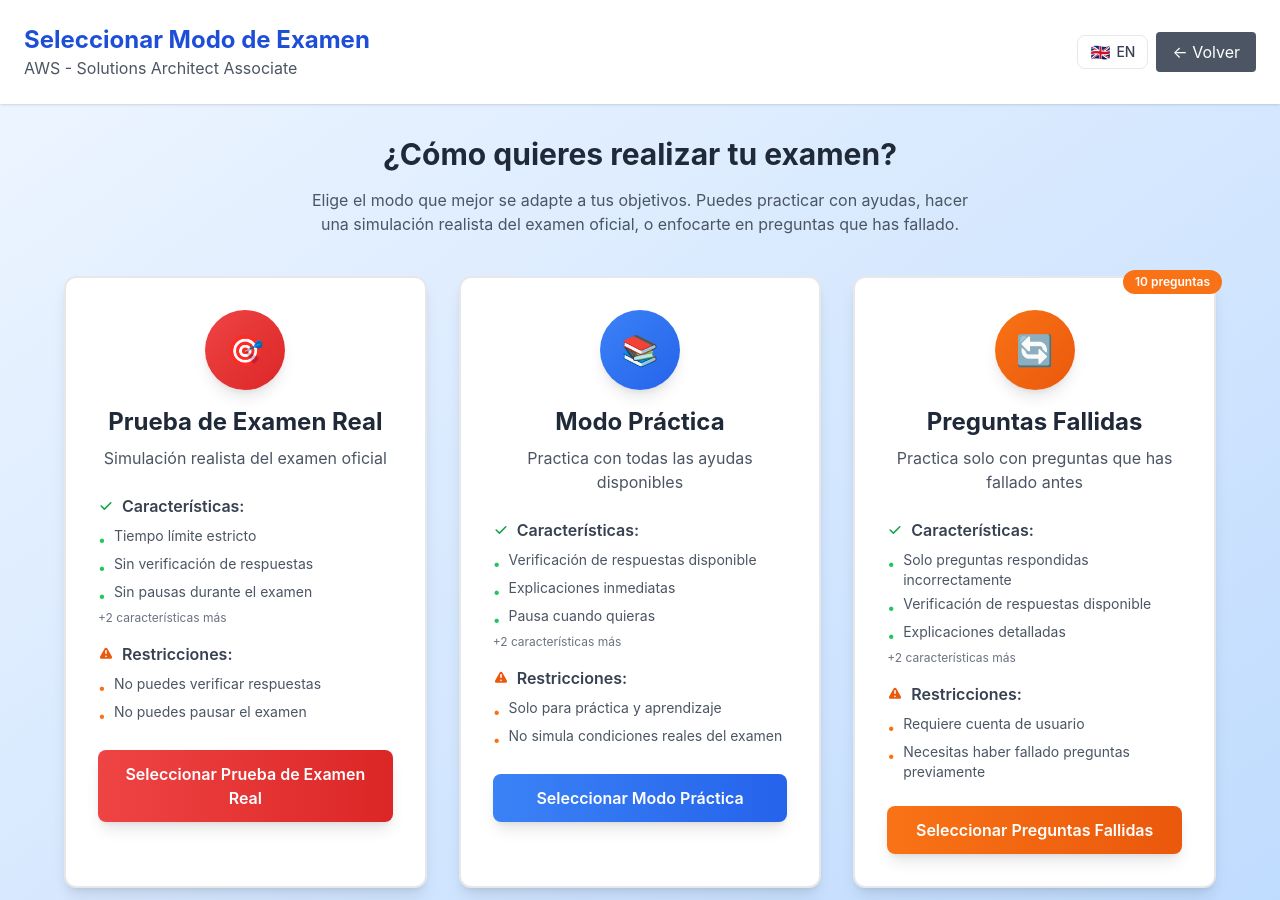
Test: ExamModeSelector › Selección de modo › selecciona modo realista al hacer clic
Step 1. Click the text "Prueba de Examen Real" → (245, 582), box [64,276,427,888]
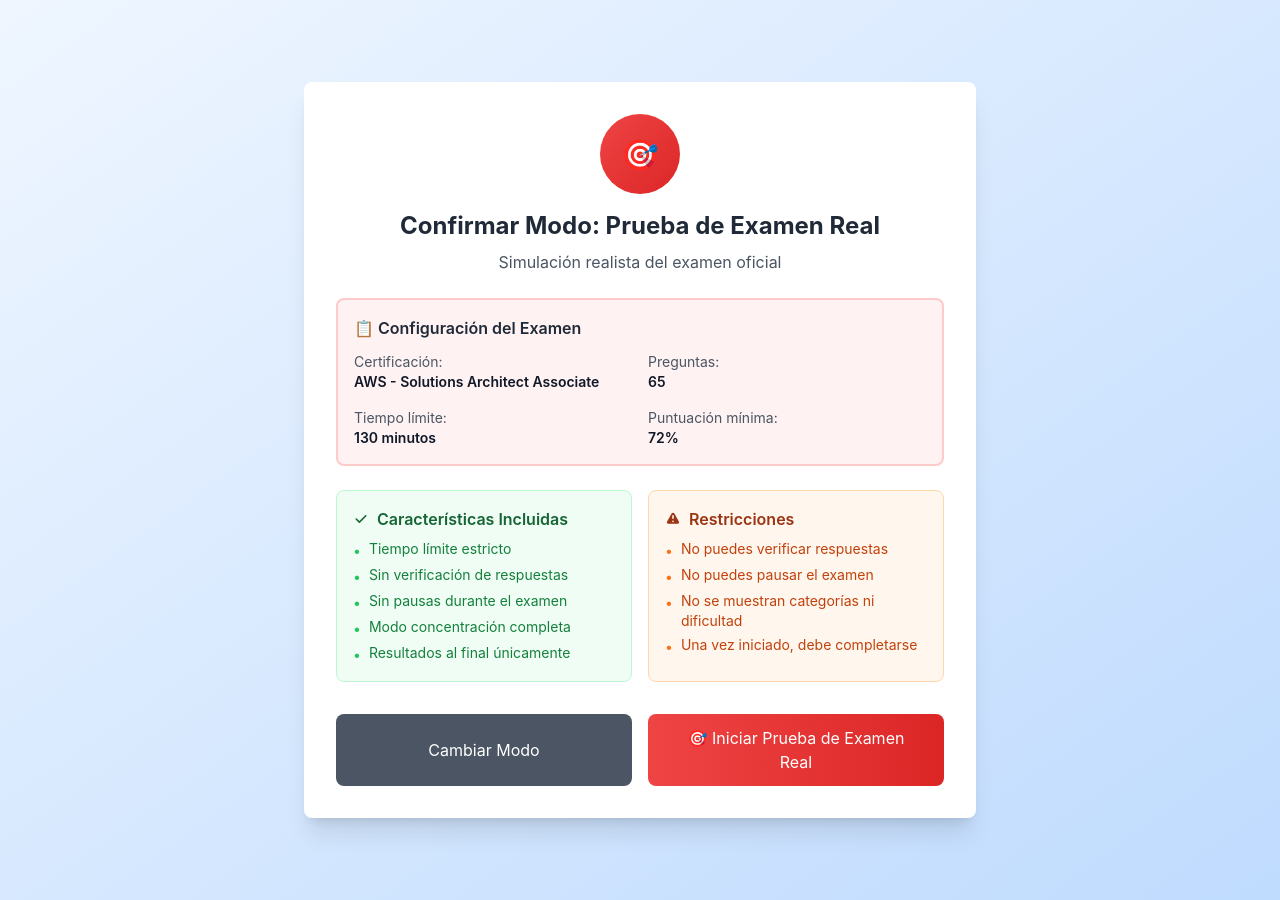
Check: the heading "Confirmar Modo: Prueba de Examen Real" is shown, box [400,211,880,240]
